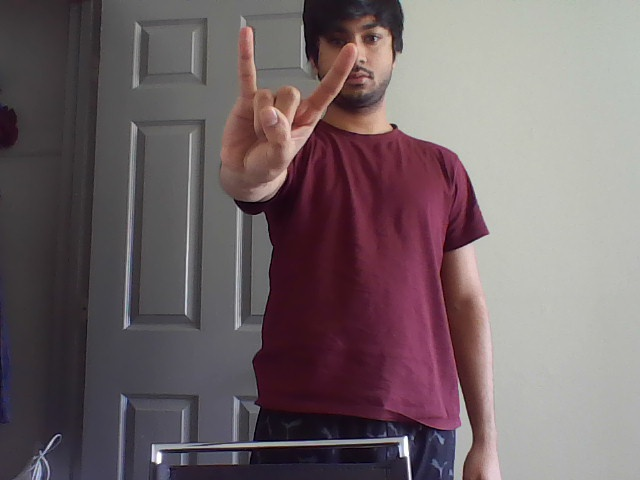help: (229, 14, 360, 153)
